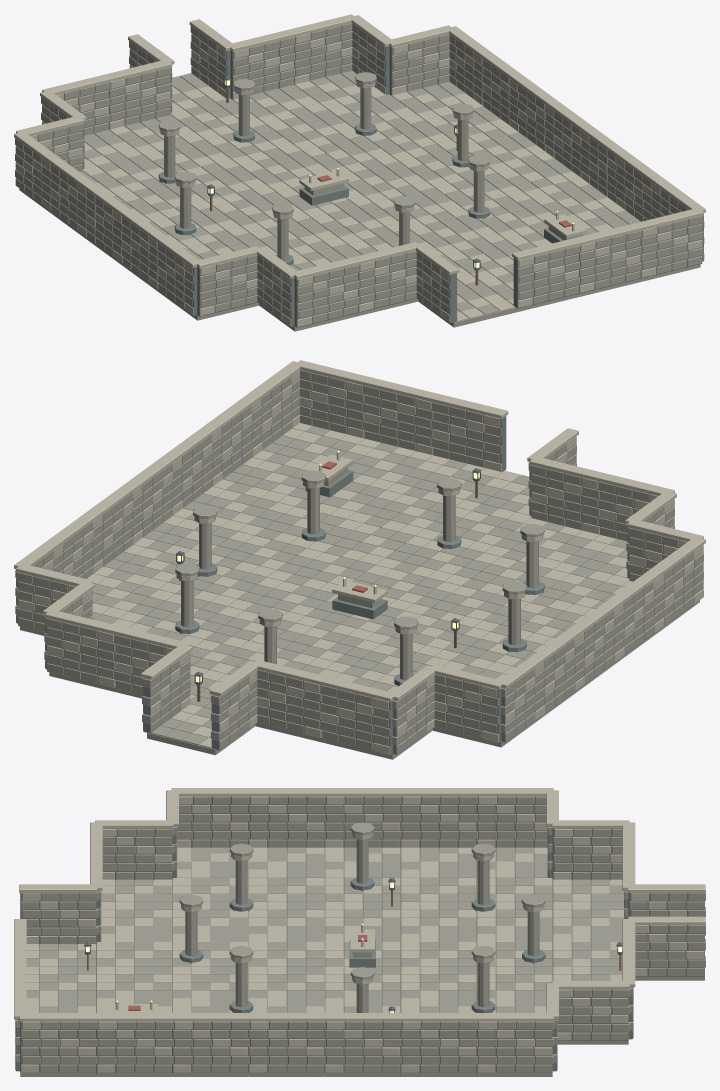
File: tv_19_01_tower_hall.glb
3 views of the same model, one above another, from view 1: azimuth 30°, elevation 25°; view 2: azimuth 150°, elevation 25°; view 3: azimuth 270°, elevation 25° (orthographic). The views are drawn at different scales.
Visible parts, largest first — view 1: wall_0067, wall_0059, wall_0073, wall_0069, wall_0063, wall_0052, wall_0080, wall_0062, wall_0068, wall_0071, wall_0064, wall_0051 (+68 smaller); view 2: wall_0067, wall_0060, wall_0071, wall_0069, wall_0062, wall_0056, wall_0063, wall_0073, wall_0065, wall_0066, wall_0057, wall_0061 (+68 smaller); view 3: wall_0072, wall_0078, wall_0055, wall_0075, wall_0077, wall_0076, wall_0074, wall_0053, wall_0079, wall_0064, wall_0065, wall_0058 (+63 smaller).
Boxes of the visible parts, box(x1,y1,x2,y2) form: wall_0067: box(512, 238, 580, 308); wall_0059: box(292, 257, 359, 327); wall_0073: box(636, 208, 703, 278); wall_0069: box(575, 223, 642, 293); wall_0063: box(105, 59, 172, 129); wall_0052: box(197, 246, 261, 316); wall_0080: box(387, 25, 452, 95); wall_0062: box(354, 242, 420, 312); wall_0068: box(227, 29, 295, 99); wall_0071: box(290, 14, 356, 84); wall_0064: box(415, 242, 459, 322); wall_0051: box(156, 236, 201, 315); wall_0067: box(431, 393, 508, 471); wall_0060: box(320, 677, 395, 755); wall_0071: box(45, 611, 119, 688); wall_0069: box(363, 377, 437, 455); wall_0062: box(529, 456, 604, 534); wall_0056: box(429, 664, 504, 742); wall_0063: box(252, 660, 327, 738); wall_0073: box(297, 360, 368, 438); wall_0065: box(141, 644, 192, 733); wall_0066: box(209, 660, 260, 750); wall_0057: box(499, 653, 546, 742); wall_0061: box(388, 665, 436, 754); wall_0072: box(19, 1013, 97, 1072); wall_0078: box(400, 1013, 477, 1072); wall_0055: box(400, 788, 477, 847); wall_0075: box(172, 1013, 249, 1072); wall_0077: box(324, 1013, 401, 1072); wall_0076: box(248, 1013, 325, 1072); wall_0074: box(96, 1013, 173, 1072); wall_0053: box(248, 788, 325, 847); wall_0079: box(476, 1013, 553, 1072); wall_0064: box(19, 884, 97, 944); wall_0065: box(628, 916, 705, 976); wall_0058: box(95, 820, 173, 880).
Bounding box in the file's own units: 28.67 × 3.77 × 36.39.
